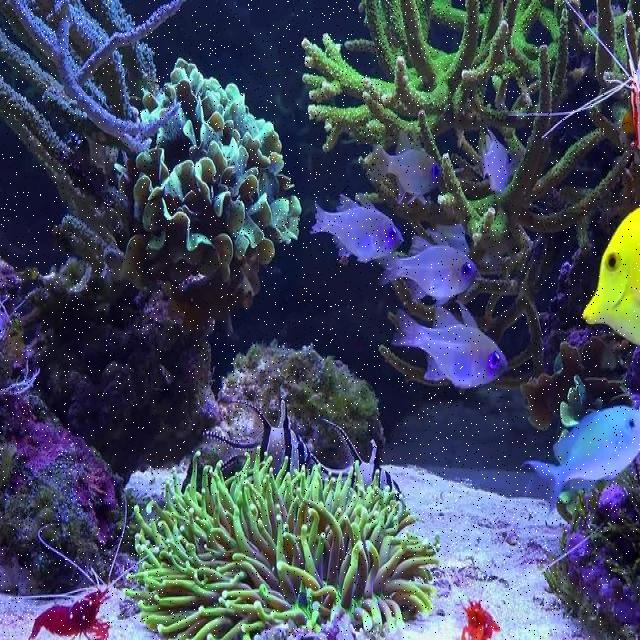fish: (521, 403, 639, 510), (389, 299, 507, 389), (203, 398, 313, 474), (581, 204, 639, 348), (379, 229, 477, 304), (315, 421, 404, 497), (309, 193, 404, 261), (369, 130, 441, 205), (480, 132, 511, 192)
reefs: (301, 0, 639, 390), (117, 448, 441, 639), (0, 0, 185, 325), (119, 55, 303, 335), (30, 588, 112, 639), (461, 599, 501, 637)
